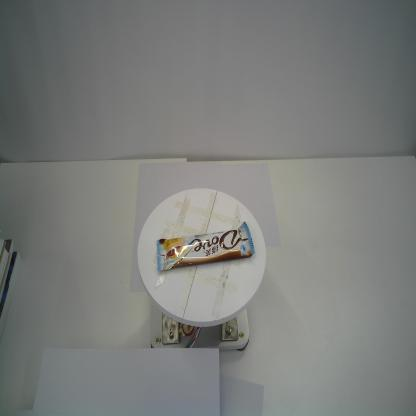Chocolate: (156, 220, 256, 272)
